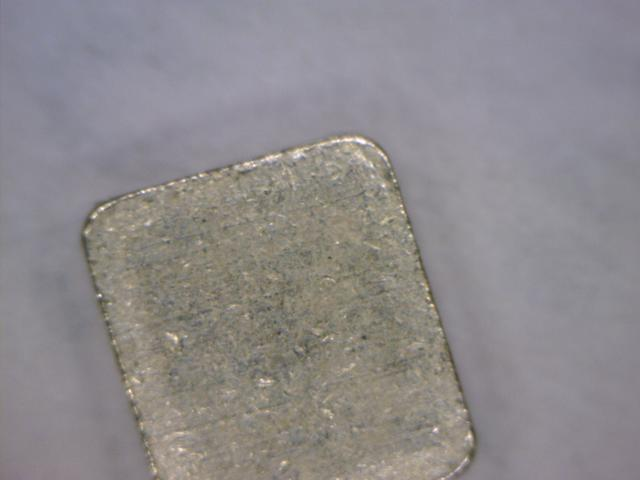ok: (77, 127, 482, 474)
